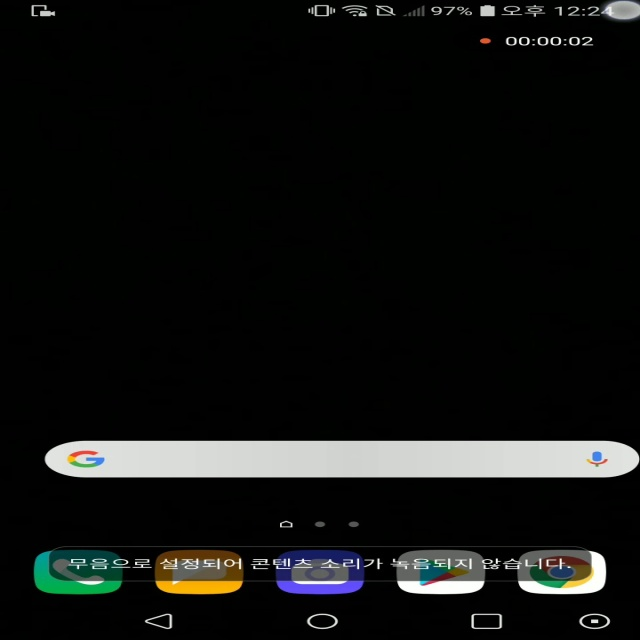Cursor: (596, 1, 640, 23)
